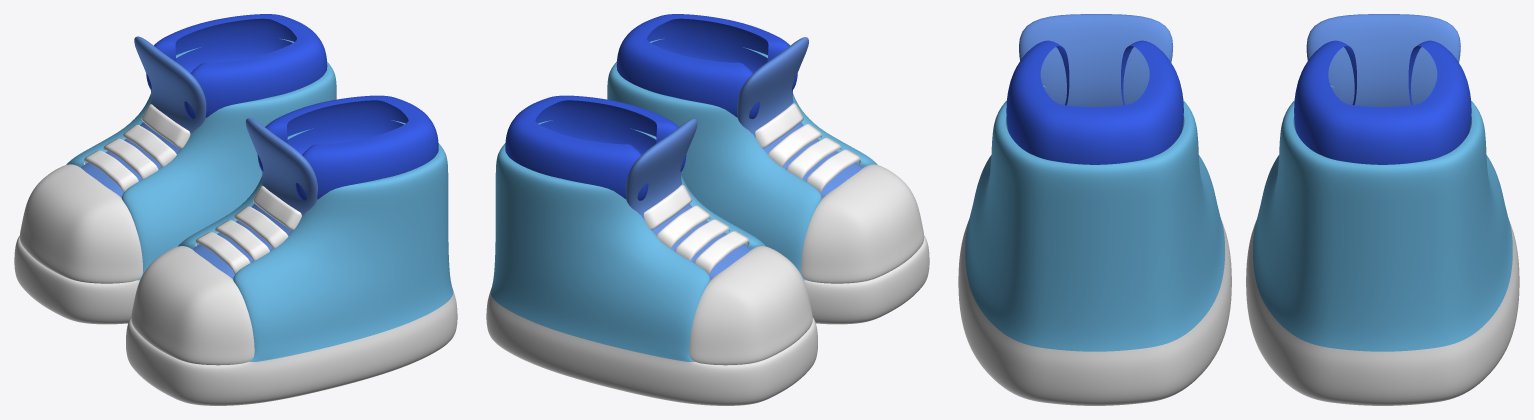
The model's file is stylized_shoes.glb.
3 views of the same model, side by side, from view 1: azimuth 30°, elevation 25°; view 2: azimuth 150°, elevation 25°; view 3: azimuth 270°, elevation 25° (orthographic). The views are drawn at different scales.
Visible parts, largest first — view 1: Cube_0, Cube.004_10, Cube.002_4, Cube.006_12, Cube.007_13, Cube.003_5, Cube.005_11, Cube.001_3, NurbsPath.015_27, NurbsPath.010_22, NurbsPath.011_23, NurbsPath.014_26 (+4 smaller); view 2: Cube.004_10, Cube_0, Cube.006_12, Cube.002_4, Cube.003_5, Cube.007_13, Cube.005_11, Cube.001_3, NurbsPath.010_22, NurbsPath.014_26, NurbsPath.011_23, NurbsPath.015_27 (+4 smaller); view 3: Cube_0, Cube.004_10, Cube.002_4, Cube.006_12, Cube.005_11, Cube.001_3.
Part boxes in pixels (x1=…): Cube_0: x1=126, y1=120, x2=457, y2=405; Cube.004_10: x1=14, y1=38, x2=336, y2=324; Cube.002_4: x1=257, y1=95, x2=438, y2=200; Cube.006_12: x1=146, y1=14, x2=327, y2=119; Cube.007_13: x1=19, y1=164, x2=142, y2=283; Cube.003_5: x1=131, y1=246, x2=254, y2=365; Cube.005_11: x1=81, y1=36, x2=206, y2=197; Cube.001_3: x1=192, y1=118, x2=317, y2=279; NurbsPath.015_27: x1=141, y1=104, x2=190, y2=148; NurbsPath.010_22: x1=234, y1=206, x2=288, y2=248; NurbsPath.011_23: x1=253, y1=185, x2=301, y2=230; NurbsPath.014_26: x1=123, y1=124, x2=176, y2=167; Cube.004_10: x1=486, y1=120, x2=817, y2=405; Cube_0: x1=607, y1=38, x2=929, y2=324; Cube.006_12: x1=505, y1=95, x2=686, y2=200; Cube.002_4: x1=616, y1=14, x2=797, y2=118; Cube.003_5: x1=801, y1=164, x2=924, y2=283; Cube.007_13: x1=689, y1=246, x2=812, y2=365; Cube.005_11: x1=625, y1=118, x2=751, y2=279; Cube.001_3: x1=737, y1=37, x2=862, y2=197; NurbsPath.010_22: x1=767, y1=123, x2=821, y2=166; NurbsPath.014_26: x1=656, y1=205, x2=710, y2=248; NurbsPath.011_23: x1=755, y1=103, x2=803, y2=148; NurbsPath.015_27: x1=643, y1=184, x2=692, y2=230; Cube_0: x1=958, y1=85, x2=1231, y2=405; Cube.004_10: x1=1246, y1=85, x2=1519, y2=405; Cube.002_4: x1=1006, y1=40, x2=1183, y2=164; Cube.006_12: x1=1294, y1=40, x2=1471, y2=164; Cube.005_11: x1=1306, y1=14, x2=1460, y2=107; Cube.001_3: x1=1019, y1=14, x2=1173, y2=107.
Size of the model in its own units: 0.7627 by 0.5567 by 0.9716.
